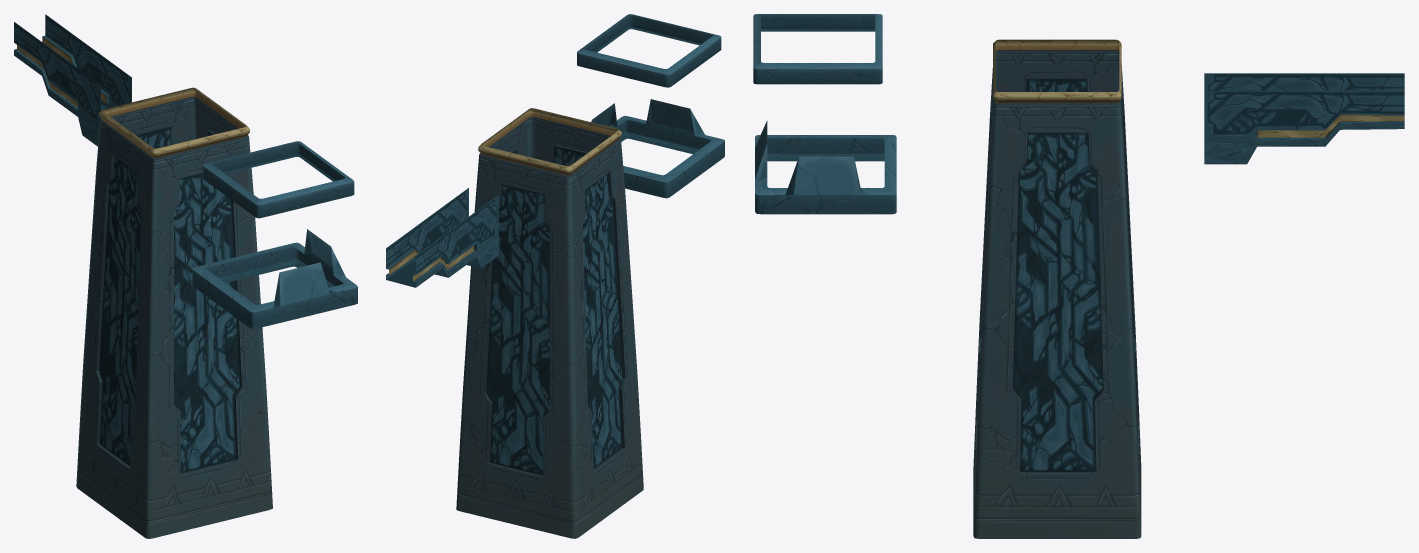
Rendered from sturdy pillar.obj.
The picture shows the model from 3 angles, left to right: view 1: azimuth 30°, elevation 25°; view 2: azimuth 150°, elevation 25°; view 3: azimuth 270°, elevation 25°; orthographic projection. The views are drawn at different scales.
Parts seen in each view (by area): view 1: polySurface3 polySurface1 pasted__pPlane2, polySurface1 pasted__pPlane2 polySurface4, pCube1, pasted__pPlane2 polySurface2; view 2: polySurface3 polySurface1 pasted__pPlane2, pCube1, polySurface1 pasted__pPlane2 polySurface4, pasted__pPlane2 polySurface2; view 3: polySurface3 polySurface1 pasted__pPlane2, pCube1, polySurface1 pasted__pPlane2 polySurface4, pasted__pPlane2 polySurface2.
Part boxes in pixels (x1,y1,x2,y2): polySurface3 polySurface1 pasted__pPlane2: (76, 87, 272, 538); polySurface1 pasted__pPlane2 polySurface4: (192, 229, 357, 328); pCube1: (14, 14, 131, 146); pasted__pPlane2 polySurface2: (202, 141, 354, 218); polySurface3 polySurface1 pasted__pPlane2: (456, 108, 643, 538); pCube1: (386, 188, 498, 287); polySurface1 pasted__pPlane2 polySurface4: (591, 99, 724, 198); pasted__pPlane2 polySurface2: (577, 14, 721, 87); polySurface3 polySurface1 pasted__pPlane2: (973, 39, 1141, 538); pCube1: (1204, 73, 1404, 164); polySurface1 pasted__pPlane2 polySurface4: (755, 120, 896, 214); pasted__pPlane2 polySurface2: (753, 14, 882, 84).
Bounding box in the file's own units: 8.27 × 25.04 × 31.83.
Materials: 1 (1 with a texture image).
